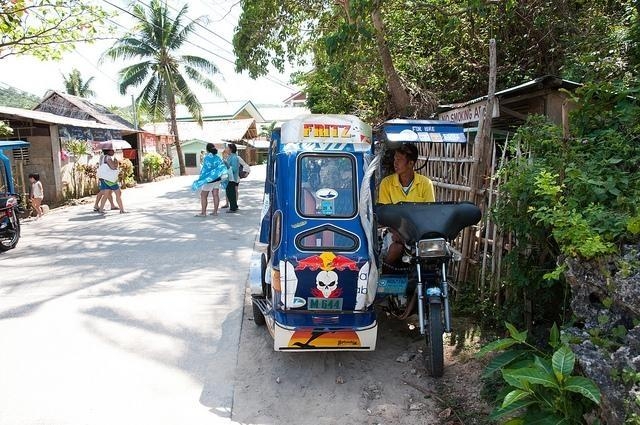motorcycle: (375, 200, 483, 378)
